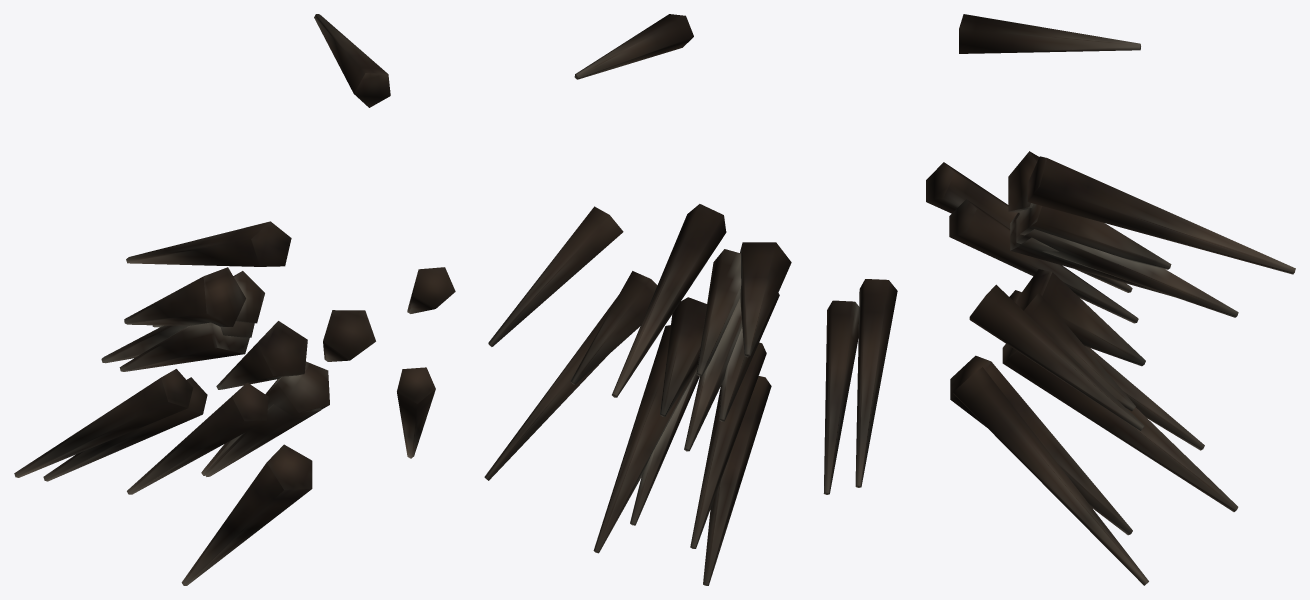
File: Prop_Hair.fbx
3 renders of one model, left to right at view 1: azimuth 30°, elevation 25°; view 2: azimuth 150°, elevation 25°; view 3: azimuth 270°, elevation 25°, orthographic. The views are drawn at different scales.
Parts seen in each view (by area): view 1: Prop_Hair; view 2: Prop_Hair; view 3: Prop_Hair.
Boxes of the visible parts, x1,y1,x2,y2 form: Prop_Hair: [14, 14, 455, 585]; Prop_Hair: [484, 14, 897, 585]; Prop_Hair: [926, 14, 1295, 585].
Size of the model in its own units: 0.1607 by 0.2063 by 0.1208.
